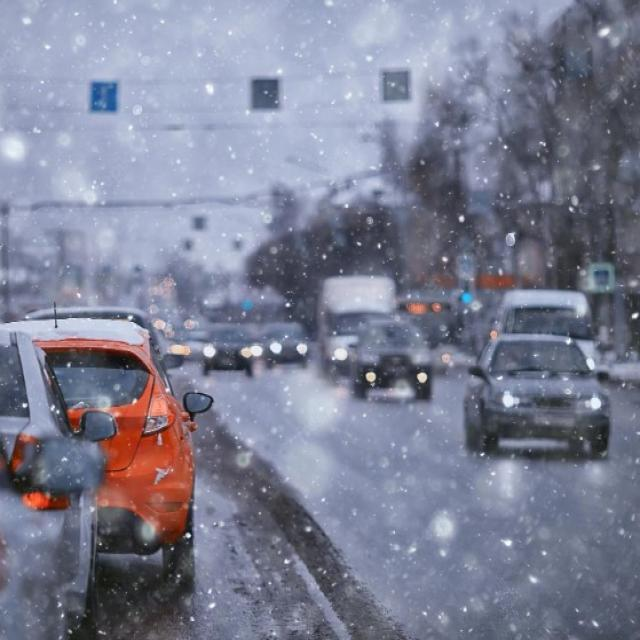car: (23, 316, 210, 582), (463, 332, 614, 459), (350, 318, 435, 402), (203, 325, 254, 378), (263, 320, 310, 366)
